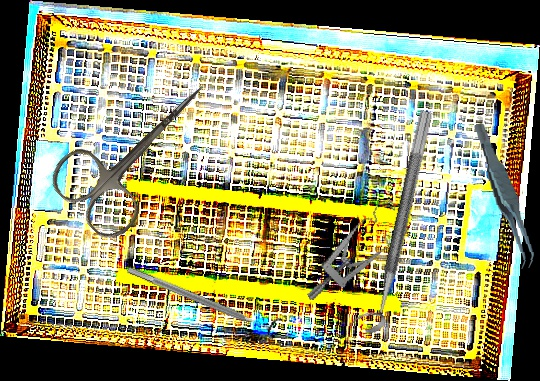Fixation Ring: (349, 105, 434, 337), (123, 257, 284, 342)
Iris Scissors: (41, 52, 239, 248)
Speculum: (285, 196, 421, 301)
Tissue Forceps: (473, 119, 536, 273)
